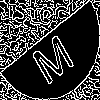M: (25, 25, 77, 87)
